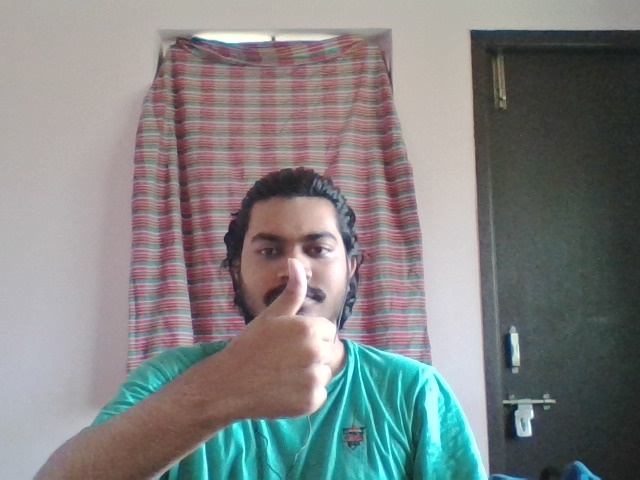ThumbsUp: (233, 257, 335, 419)
